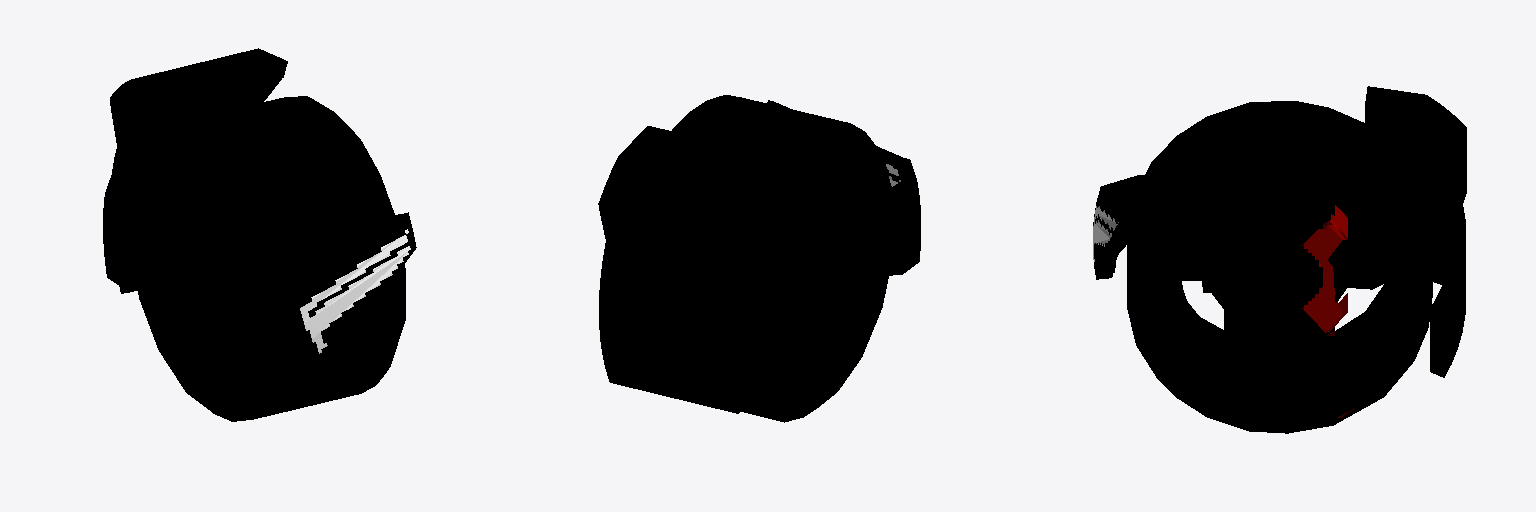
The picture shows the model from 3 angles: view 1: azimuth 30°, elevation 25°; view 2: azimuth 150°, elevation 25°; view 3: azimuth 270°, elevation 25°; orthographic projection.
Visible parts, largest first — view 1: FL, KPFL; view 2: KPFL, FL; view 3: FL, KPFL.
Part boxes in pixels (x1,y1,x2,y2): FL: (132,96,405,421); KPFL: (103,48,416,369); KPFL: (598,100,920,413); FL: (672,95,890,422); FL: (1127,101,1432,433); KPFL: (1093,86,1466,377).
Bounding box in the file's own units: 1.16 × 2.01 × 2.37.
1 materials, 1 textured.